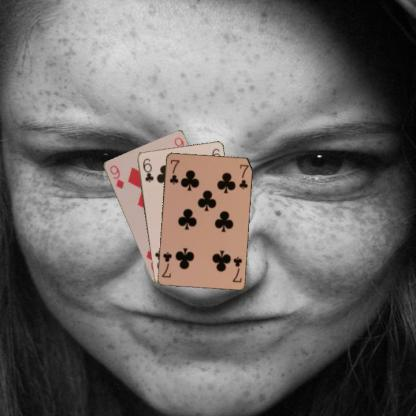6c: (140, 155, 155, 184)
7c: (230, 254, 244, 283), (167, 157, 180, 186)
9d: (107, 162, 125, 190)
